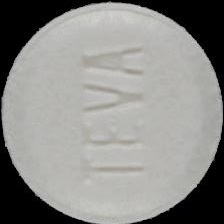0093-0787: (0, 0, 224, 224)
